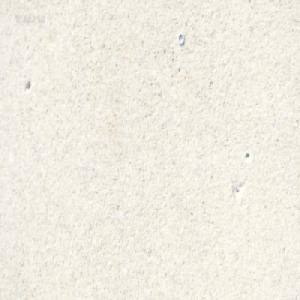Washer: (177, 31, 184, 45)
